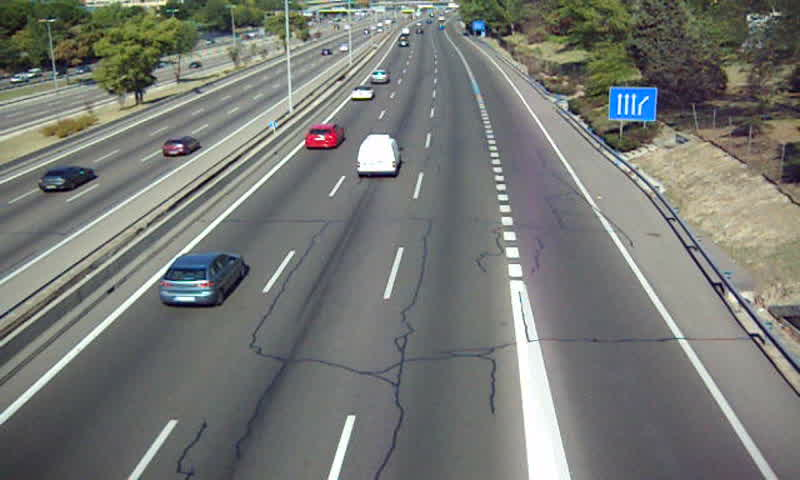car: (162, 254, 244, 306), (306, 124, 344, 148), (350, 86, 374, 100), (370, 69, 388, 84)
van: (357, 133, 401, 176)
